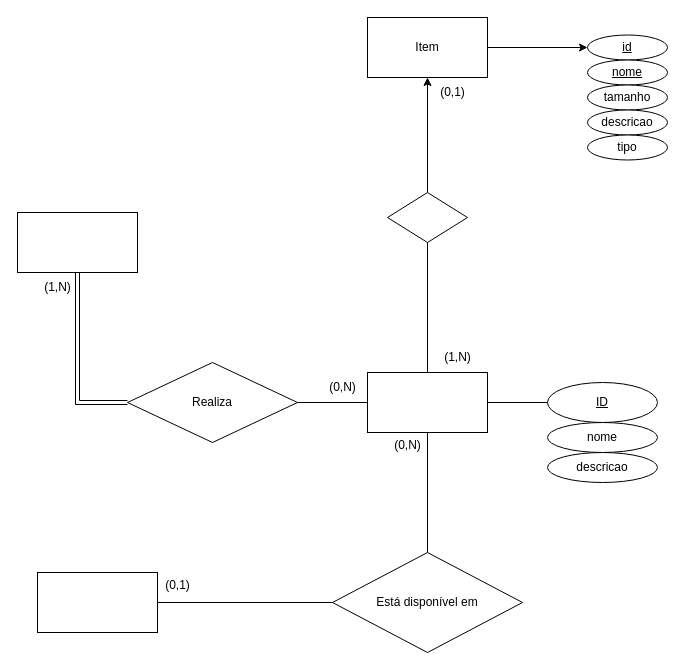
The diagram is 685 pixels wide and 670 high, and some of its shapes have lost their labels. The box of each missing label's shape, as (x1, y1, x2, y2) in pixels:
Dropa: (386, 192, 468, 242)
Jogador: (16, 212, 138, 272)
Mapa: (36, 572, 158, 632)
Missao: (366, 372, 488, 432)
